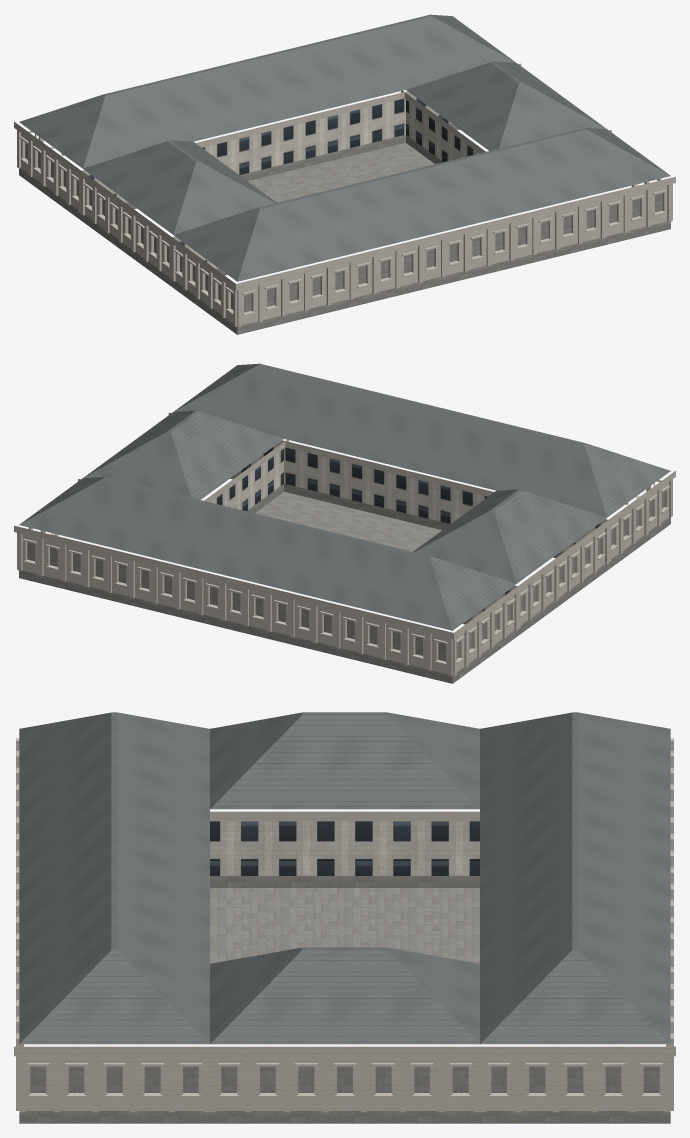
Rendered from freer.glb.
3 views of the same model, one above another, from view 1: azimuth 30°, elevation 25°; view 2: azimuth 150°, elevation 25°; view 3: azimuth 270°, elevation 25° (orthographic). The views are drawn at different scales.
Parts seen in each view (by area): view 1: freer; view 2: freer; view 3: freer.
Part boxes in pixels (box(x1,y1,x2,y2)): freer: box(14, 14, 675, 334); freer: box(14, 363, 675, 683); freer: box(14, 712, 675, 1123).
Bounding box in the file's own units: 71.5 × 14 × 62.5.
4 materials, 4 textured.
